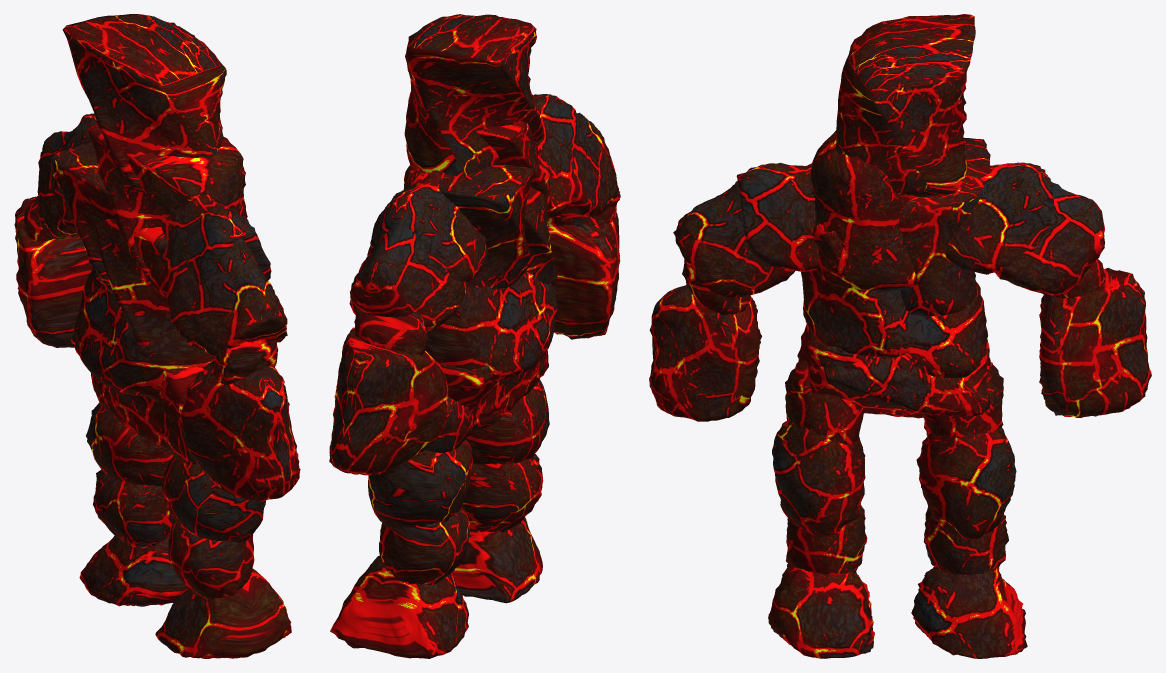
File: hotdude.fbx
3 views of the same model, side by side, from view 1: azimuth 30°, elevation 25°; view 2: azimuth 150°, elevation 25°; view 3: azimuth 270°, elevation 25° (orthographic). The views are drawn at different scales.
Parts seen in each view (by area): view 1: Hotdude; view 2: Hotdude; view 3: Hotdude.
Part boxes in pixels (x1,y1,x2,y2): Hotdude: [14, 14, 300, 658]; Hotdude: [329, 14, 620, 658]; Hotdude: [649, 14, 1151, 658].
Bounding box in the file's own units: 137 × 487 × 379.
